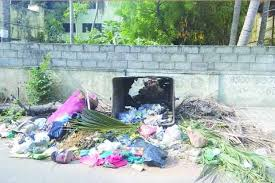garbage: (15, 114, 250, 163), (182, 103, 259, 183), (126, 95, 172, 154)
